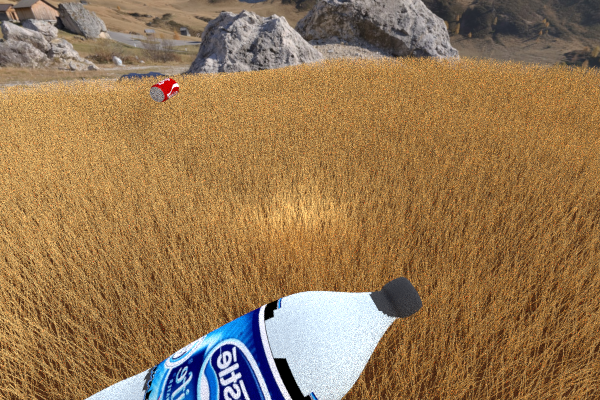bottle: (0, 276, 422, 400)
can: (123, 136, 205, 193), (149, 78, 179, 102)
